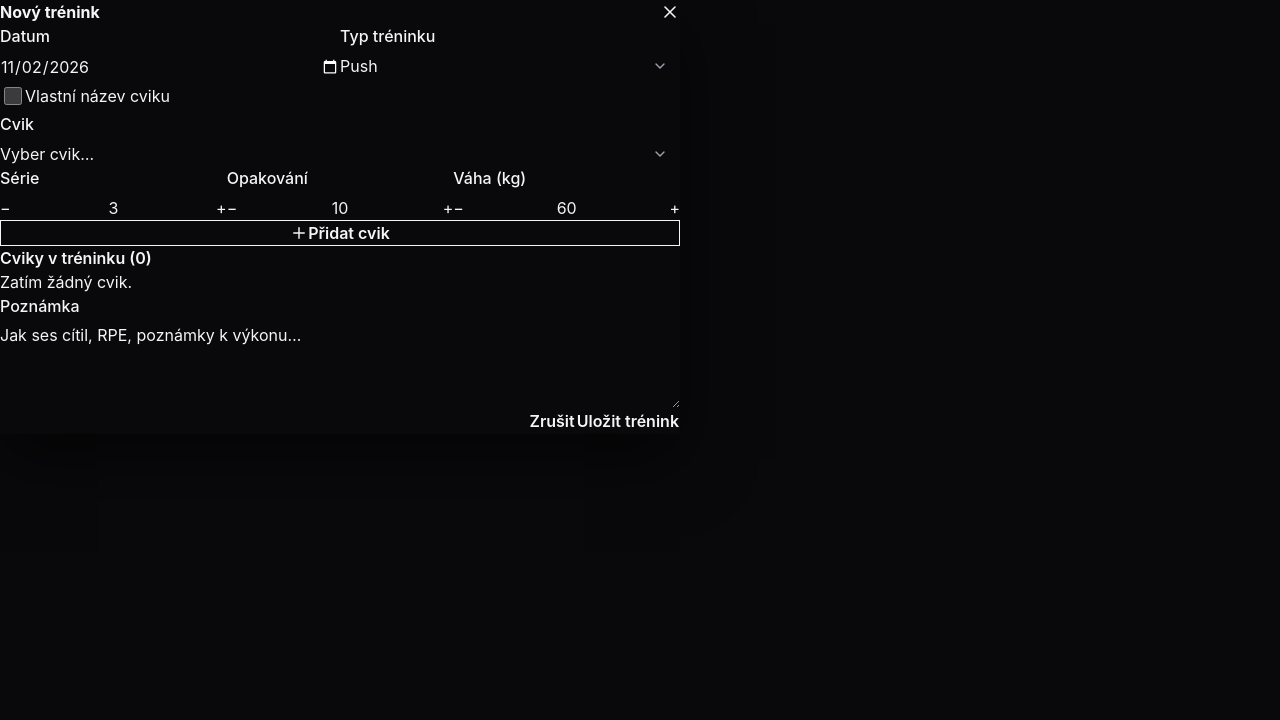
Test case: WorkoutForm: last time › choosing an exercise shows last time and fills in its numbers
Select "Bench Press (Barbell)" in the dropdown labelled "Cvik" at [340, 154], box top-left (0, 142), bottom-right (680, 166)
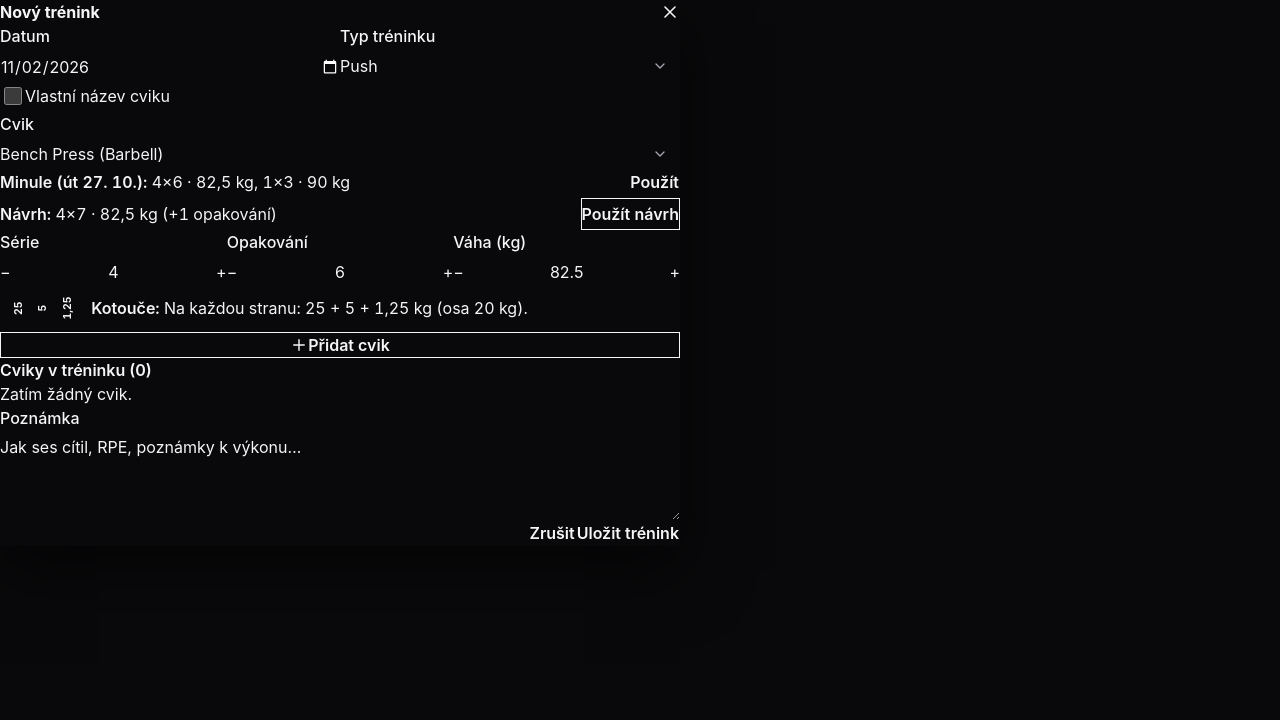
Expected: the number field labelled "Série" holds "4", top-left (11, 260), bottom-right (216, 284)
Expected: the number field labelled "Opakování" holds "6", top-left (237, 260), bottom-right (443, 284)
Expected: the number field labelled "Váha (kg)" holds "82.5", top-left (464, 260), bottom-right (669, 284)
